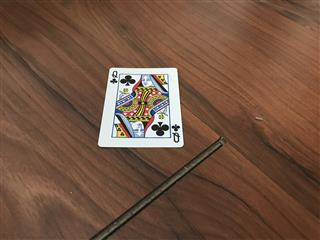QueenOfClubs: (96, 66, 185, 148)
